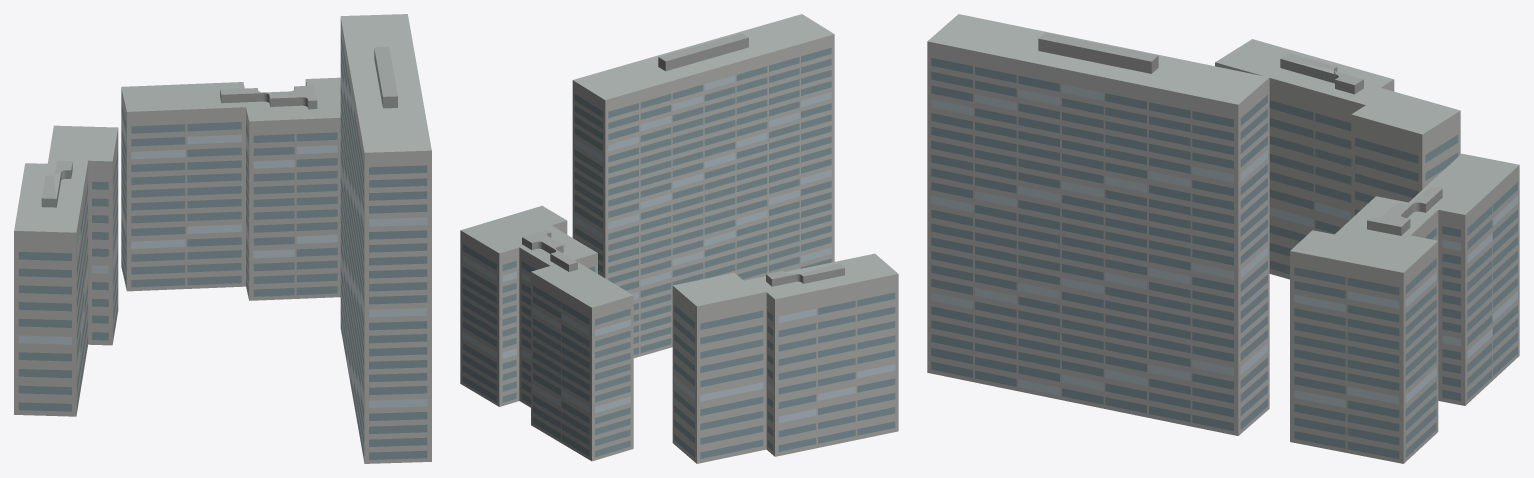
The model's file is apt-a13986201.glb.
The picture shows the model from 3 angles, left to right: view 1: azimuth 30°, elevation 25°; view 2: azimuth 150°, elevation 25°; view 3: azimuth 270°, elevation 25°; orthographic projection. The views are drawn at different scales.
Visible parts, largest first — view 1: apt-a13986201; view 2: apt-a13986201; view 3: apt-a13986201.
Part boxes in pixels (x1=…): apt-a13986201: x1=14, y1=14, x2=431, y2=463; apt-a13986201: x1=460, y1=14, x2=898, y2=463; apt-a13986201: x1=927, y1=14, x2=1519, y2=463.
Size of the model in its own units: 95.72 by 67 by 105.
